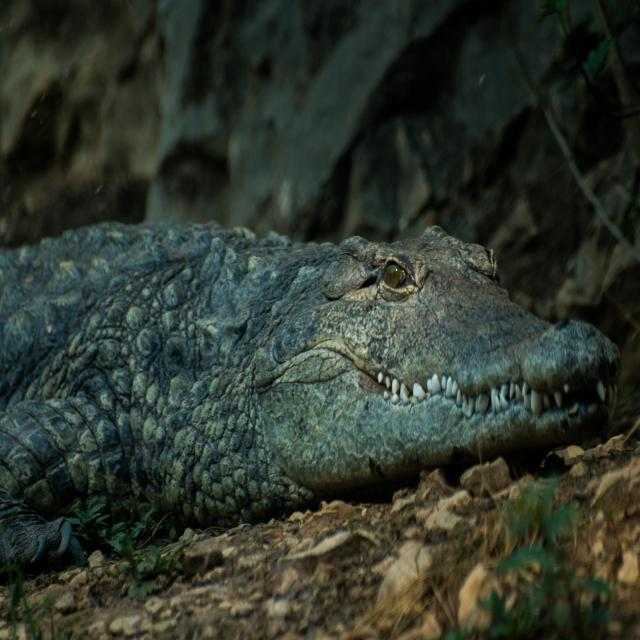crocodile: (0, 190, 640, 574)
